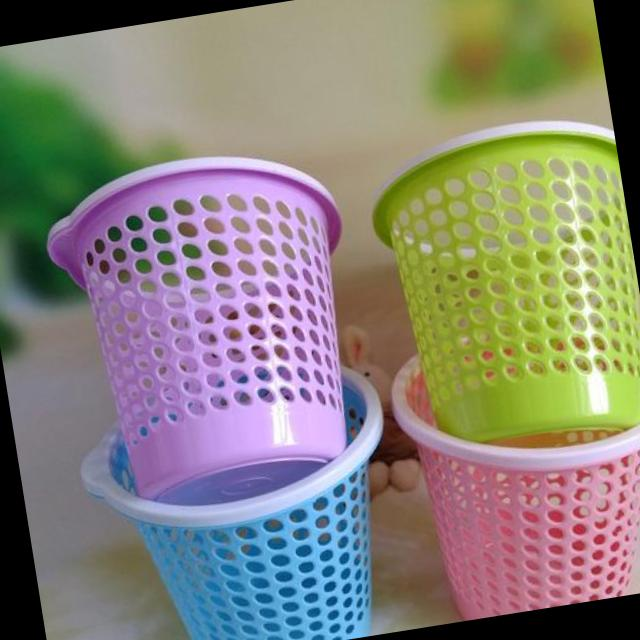dustbin: (26, 128, 392, 527), (62, 342, 420, 640), (347, 112, 640, 470), (383, 297, 640, 625)
